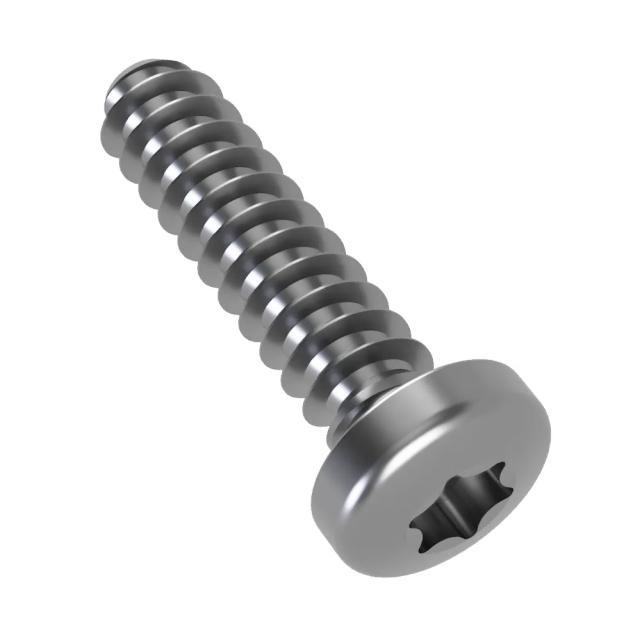torx: (308, 357, 552, 582)
